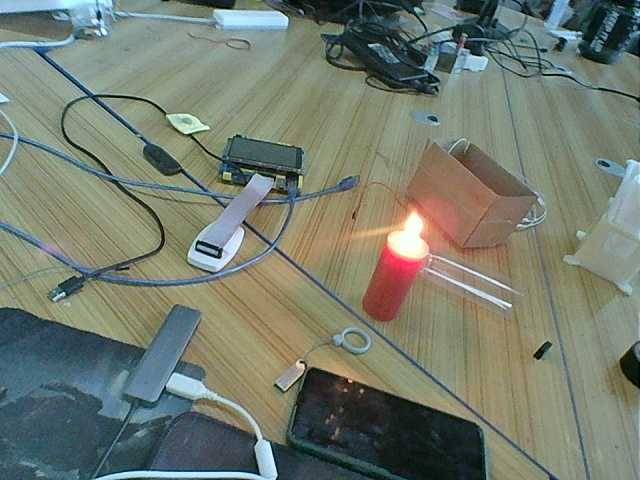candle: (362, 237, 425, 323)
fire: (388, 212, 432, 253)
